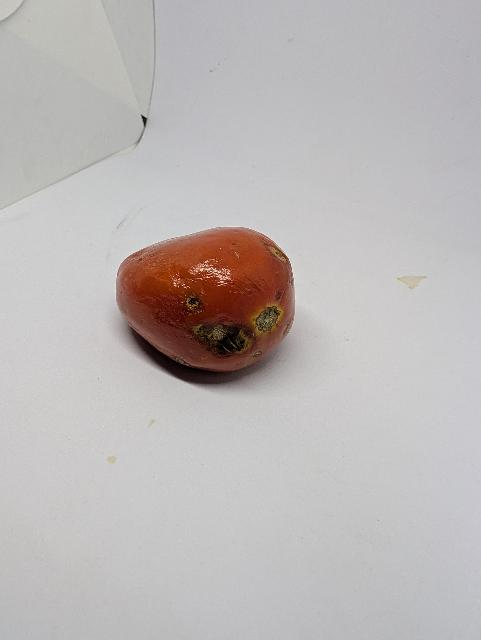defect: (112, 224, 301, 376)
